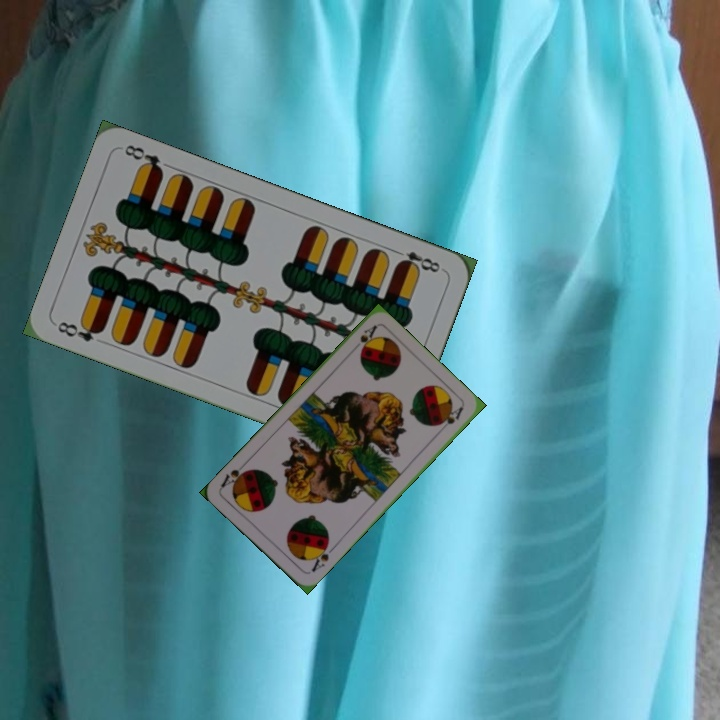E8: (389, 245, 443, 275), (53, 317, 106, 345)
SA: (307, 538, 338, 575), (347, 321, 380, 355)
